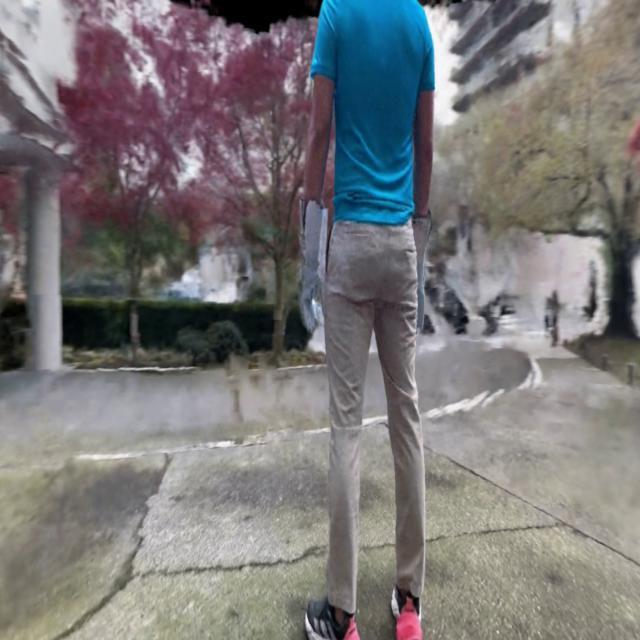gloves: (288, 195, 322, 342), (402, 195, 436, 333)
